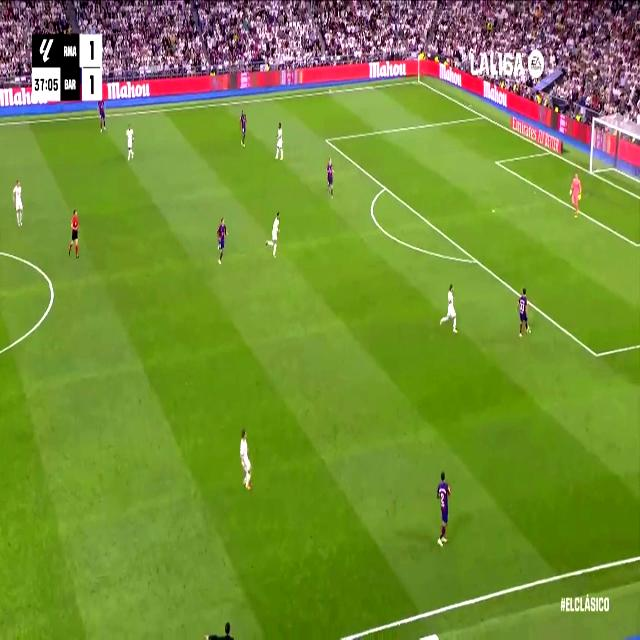bigarea_bottom_inner: (590, 341, 602, 367)
bigarea_top_inner: (322, 130, 330, 146)
bottom_arc_area_intersection: (471, 250, 481, 268)
corner: (413, 74, 422, 85)
smallarea_top_inner: (494, 157, 500, 167)
top_arc_area_intersection: (381, 179, 389, 194)
